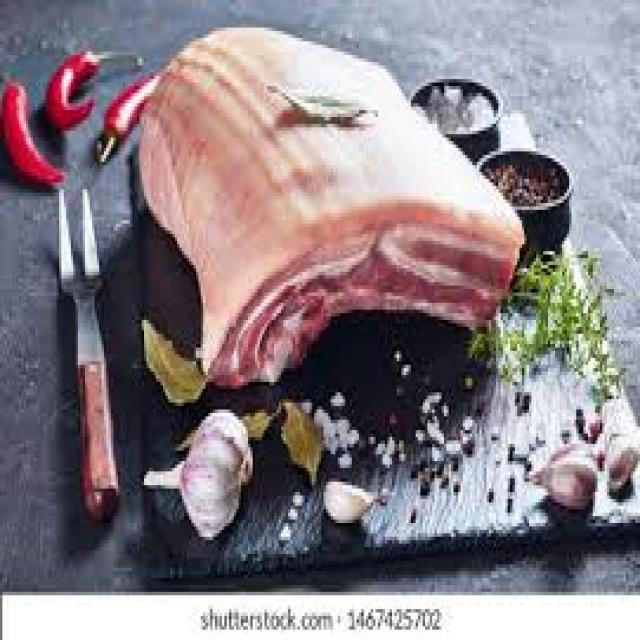chilli: (42, 40, 100, 130), (0, 72, 39, 192)
pork belly: (200, 170, 503, 379)
